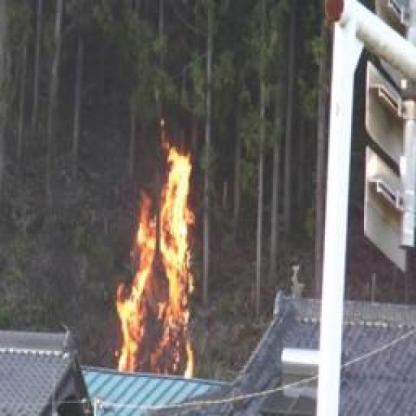fire: (112, 116, 199, 381)
